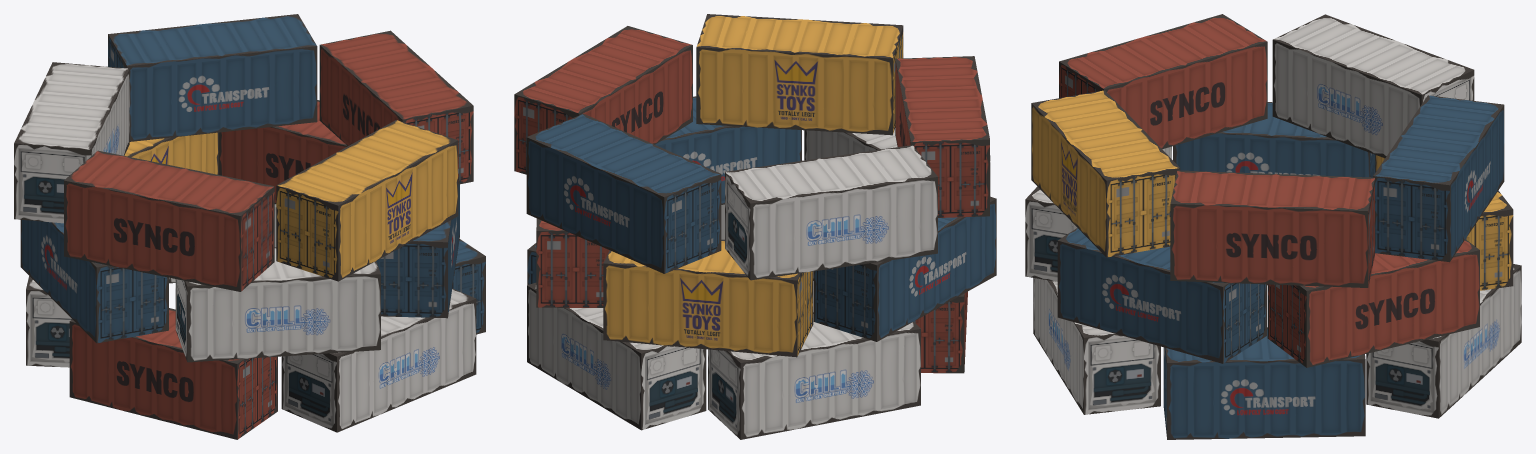
The model's file is SM_Prop_Container_Stack_10.fbx.
The picture shows the model from 3 angles, left to right: view 1: azimuth 30°, elevation 25°; view 2: azimuth 150°, elevation 25°; view 3: azimuth 270°, elevation 25°; orthographic projection.
Parts seen in each view (by area): view 1: SM_Prop_Container_Stack_10; view 2: SM_Prop_Container_Stack_10; view 3: SM_Prop_Container_Stack_10.
Boxes of the visible parts, bbox=[...] form: SM_Prop_Container_Stack_10: bbox=[14, 14, 485, 439]; SM_Prop_Container_Stack_10: bbox=[514, 14, 996, 439]; SM_Prop_Container_Stack_10: bbox=[1025, 14, 1521, 439].
Bounding box in the file's own units: 1444 × 777 × 1515.
